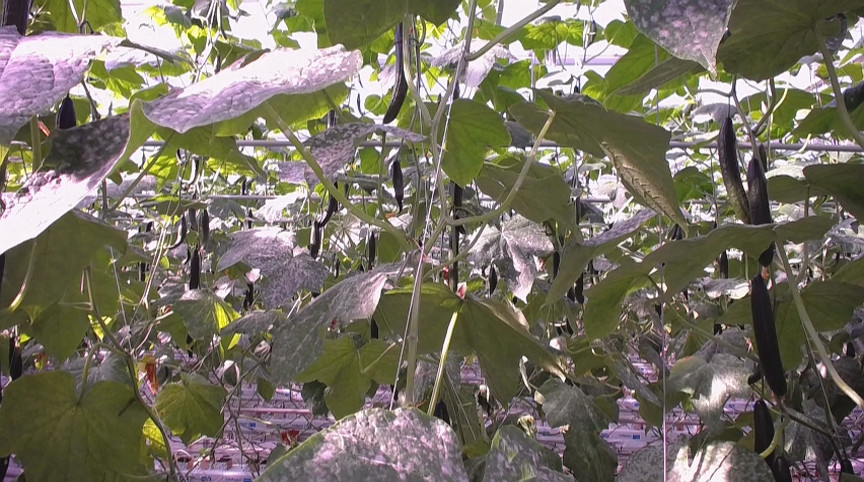cucumber: (751, 275, 789, 397), (718, 116, 751, 227), (748, 160, 773, 265), (382, 22, 407, 125), (751, 398, 773, 463), (54, 95, 78, 128)
